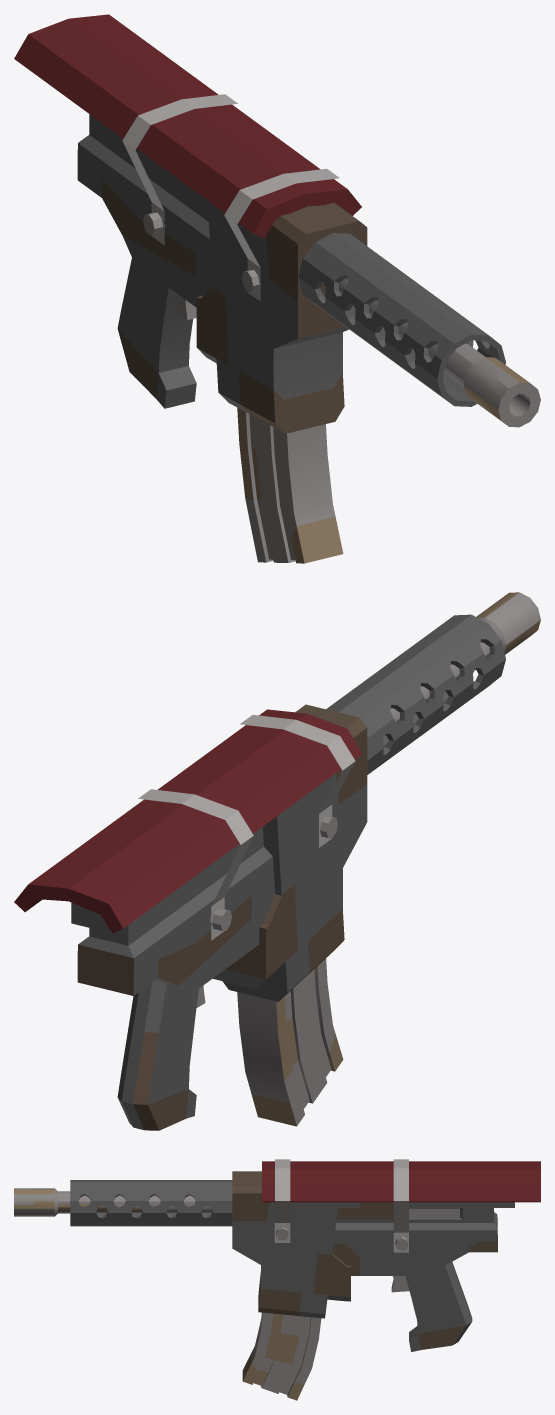
The model's file is gun_smg.glb.
The picture shows the model from 3 angles, top to bottom: view 1: azimuth 30°, elevation 25°; view 2: azimuth 150°, elevation 25°; view 3: azimuth 270°, elevation 25°; orthographic projection. The views are drawn at different scales.
Visible parts, largest first — view 1: SMG; view 2: SMG; view 3: SMG.
Part boxes in pixels (box(x1,y1,x2,y2)): SMG: box(14, 14, 540, 563); SMG: box(14, 592, 540, 1130); SMG: box(14, 1159, 540, 1400).
Size of the model in its own units: 0.1507 by 0.4718 by 0.994.
1 material, 1 textured.
